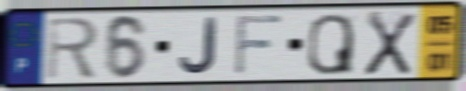6: (102, 13, 153, 82)
F: (232, 12, 286, 78)
J: (177, 15, 220, 77)
Q: (305, 11, 356, 76)
R: (44, 15, 101, 82)
X: (362, 9, 418, 78)
